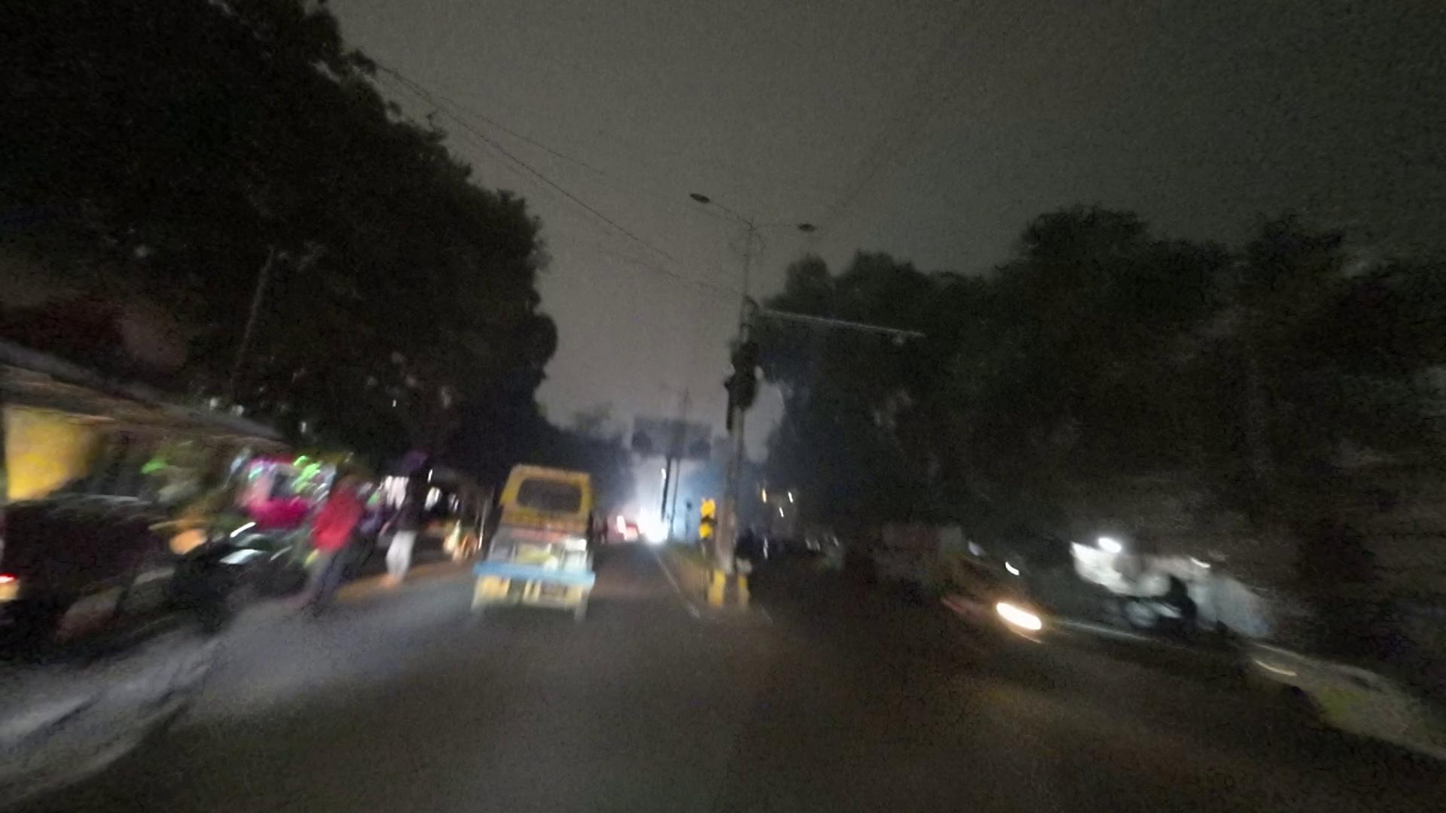streetlight: (690, 188, 749, 224), (754, 216, 819, 239)
